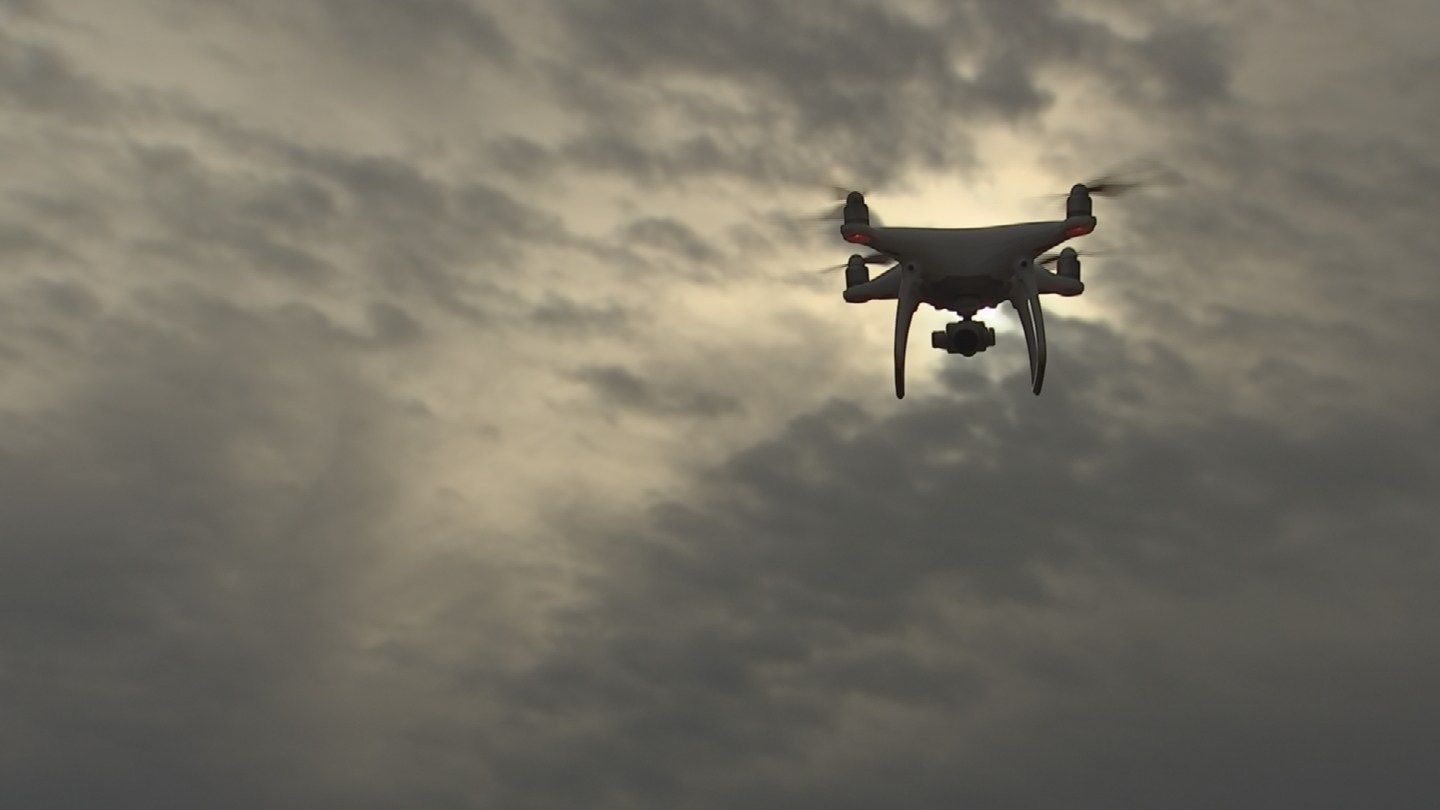drone: (776, 154, 1192, 407)
